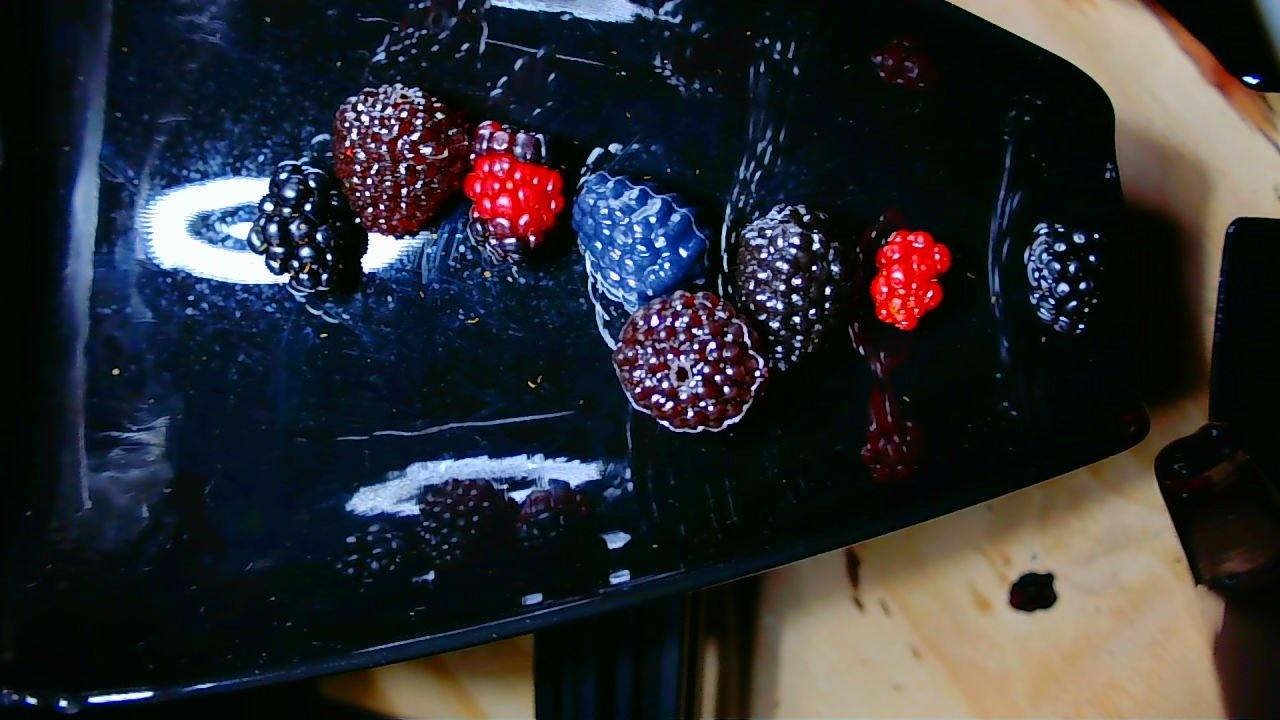berry: (613, 291, 768, 431), (332, 83, 470, 236), (731, 205, 851, 370), (572, 171, 707, 310), (246, 161, 365, 291), (463, 121, 565, 259), (1024, 223, 1102, 333), (869, 230, 950, 329)
